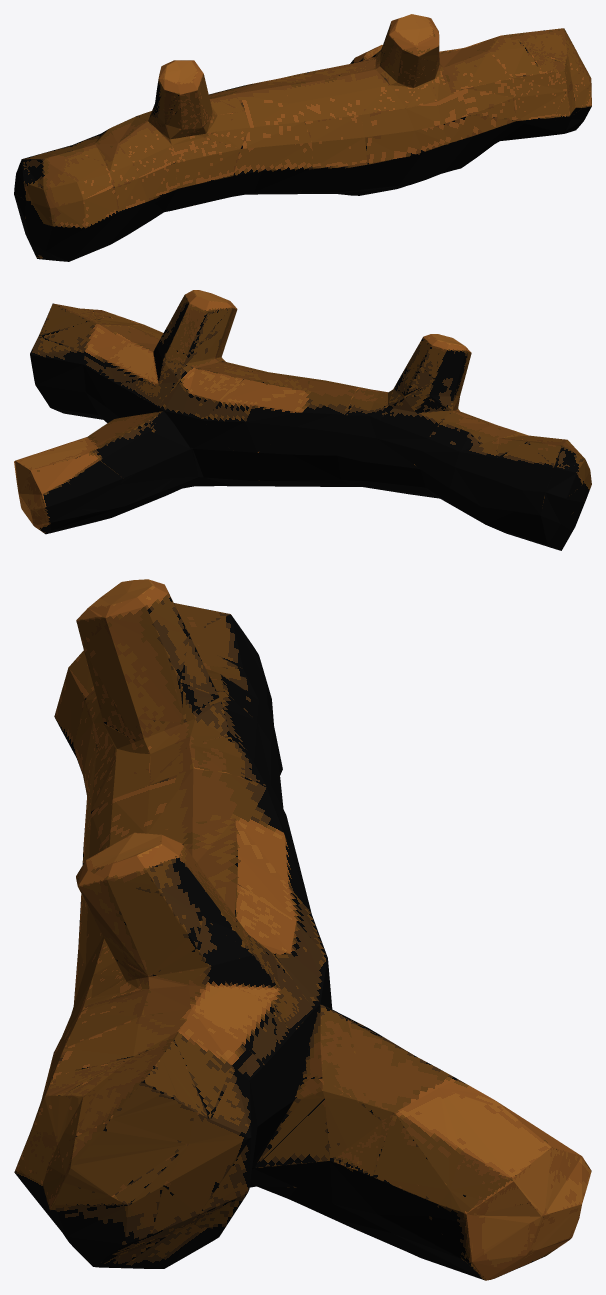
3 views of the same model, one above another, from view 1: azimuth 30°, elevation 25°; view 2: azimuth 150°, elevation 25°; view 3: azimuth 270°, elevation 25° (orthographic). The views are drawn at different scales.
Parts seen in each view (by area): view 1: OBJ0cd; view 2: OBJ0cd; view 3: OBJ0cd.
Boxes of the visible parts, x1=… form: OBJ0cd: x1=14, y1=14, x2=591, y2=261; OBJ0cd: x1=14, y1=290, x2=591, y2=550; OBJ0cd: x1=14, y1=579, x2=591, y2=1280.
Size of the model in its own units: 0.2622 by 0.0894 by 0.1207.
1 material, 1 textured.
